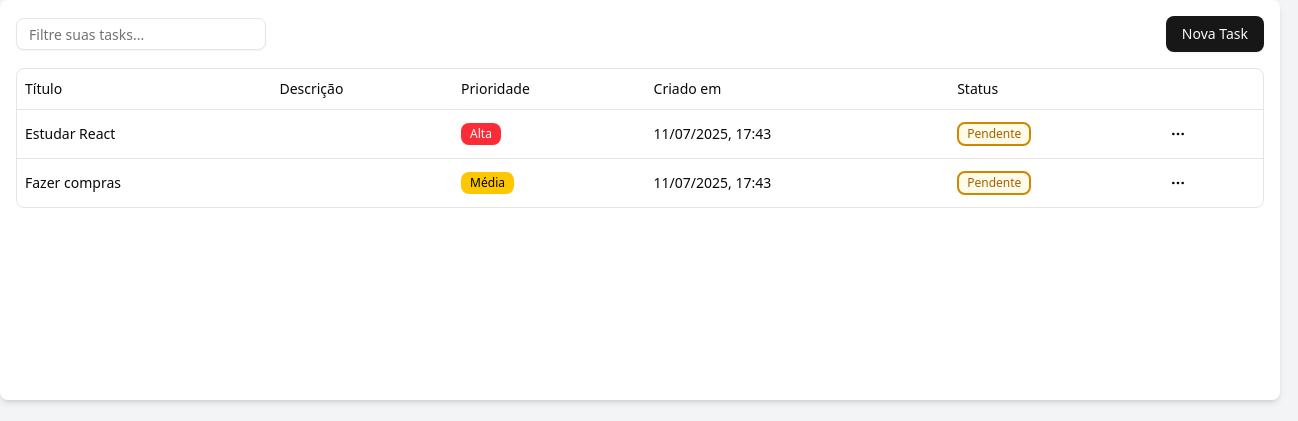
it: TasksTable › permite filtrar tasks por título
This screenshot has width=1298, height=421.
Expected: the text "Estudar React" is shown, [17, 109, 271, 158]
Expected: the text "Fazer compras" is shown, [17, 158, 271, 206]
In the field with placeholder "Filtre suas tasks...": point(141, 34) [16, 18, 266, 50], type "React"
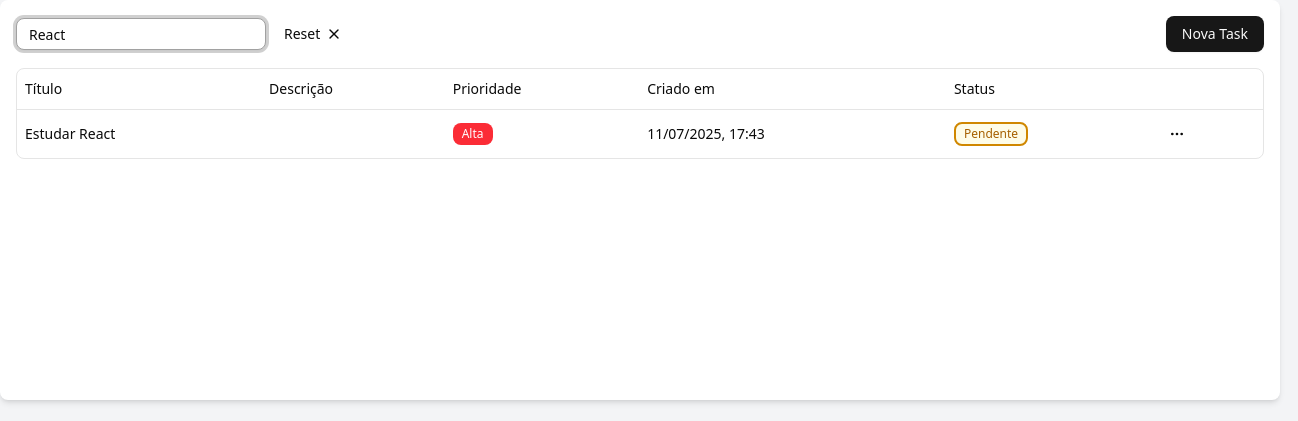
Expected: the text "Estudar React" is shown, [17, 109, 261, 158]
Now the text "Fazer compras" is gone
